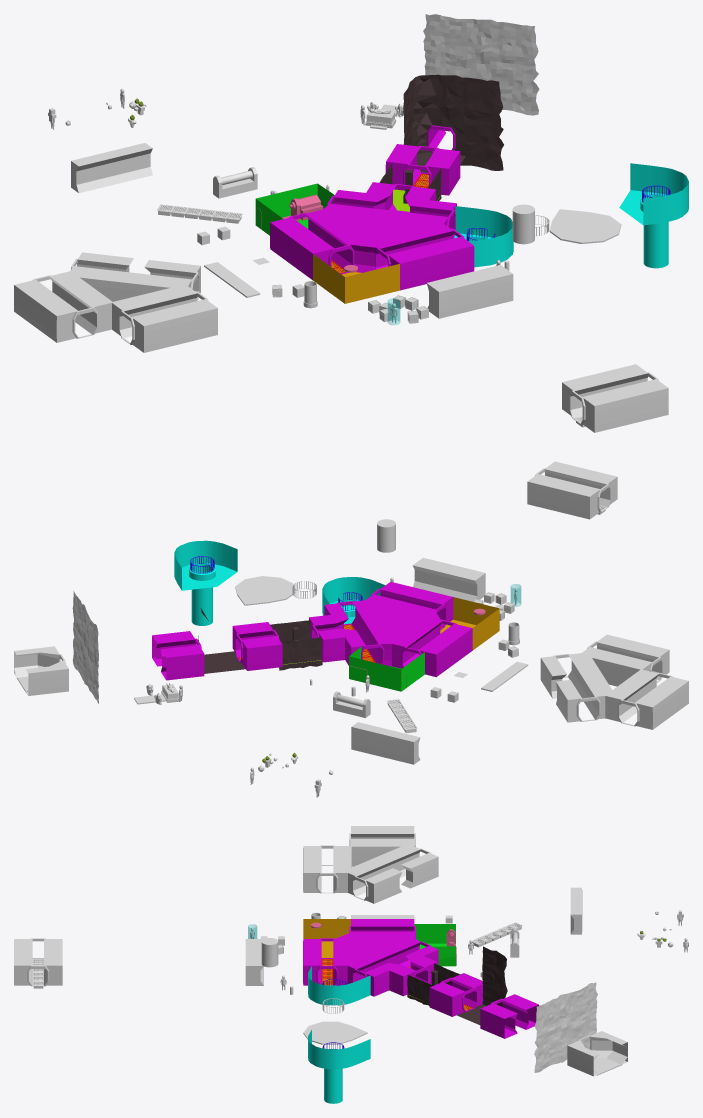
File: Button.fbx
3 renders of one model, top to bottom at view 1: azimuth 30°, elevation 25°; view 2: azimuth 150°, elevation 25°; view 3: azimuth 270°, elevation 25°, orthographic. The views are drawn at different scales.
Visible parts, largest first — view 1: Cube.022, Plane.001, Plane, Cube.005, Cube.064, Cube.062, Cylinder.030, Cube.063, Cube.001, Cube.012, Cylinder, Cube (+7 smaller); view 2: Cube.022, Cube.005, Cube.062, Cylinder.030, Cube.063, Cube.064, Cube.001, Cube.024, Cube.025, Cube.078, Cube.012, Plane.001 (+9 smaller); view 3: Cube.022, Plane.001, Cube.063, Cylinder.030, Cube.005, Cube.062, Cube.025, Cube.064, Cube.078, Cube.024, Cylinder, Plane (+8 smaller).
Part boxes in pixels (x1,y1,x2,y2): Cube.022: (270, 182, 474, 290); Plane.001: (423, 14, 539, 115); Plane: (403, 74, 503, 170); Cube.005: (562, 364, 668, 432); Cube.064: (111, 284, 217, 352); Cube.062: (14, 271, 112, 342); Cylinder.030: (619, 163, 688, 268); Cube.063: (67, 252, 200, 301); Cube.001: (426, 265, 513, 318); Cube.012: (71, 143, 152, 193); Cylinder: (454, 206, 513, 267); Cube: (313, 254, 399, 303); Cube.022: (309, 581, 472, 677); Cube.005: (527, 461, 617, 519); Cube.062: (605, 669, 688, 729); Cylinder.030: (174, 540, 237, 625); Cube.063: (540, 653, 614, 722); Cube.064: (579, 634, 669, 686); Cube.001: (412, 557, 485, 601); Cube.024: (14, 646, 68, 695); Cube.025: (152, 631, 204, 680); Cube.078: (232, 622, 282, 670); Cube.012: (351, 722, 420, 764); Plane.001: (72, 591, 98, 703); Cube.022: (303, 919, 438, 996); Plane.001: (534, 982, 597, 1072); Cube.063: (348, 844, 438, 903); Cylinder.030: (308, 1030, 370, 1103); Cube.005: (14, 938, 62, 986); Cube.062: (349, 826, 415, 866); Cube.025: (480, 994, 539, 1038); Cube.064: (303, 845, 351, 893); Cube.078: (429, 973, 482, 1016); Cube.024: (567, 1031, 627, 1076); Cylinder: (308, 966, 370, 1005); Plane: (482, 946, 507, 1006).
Size of the model in its own units: 9433 by 1914 by 11673.
